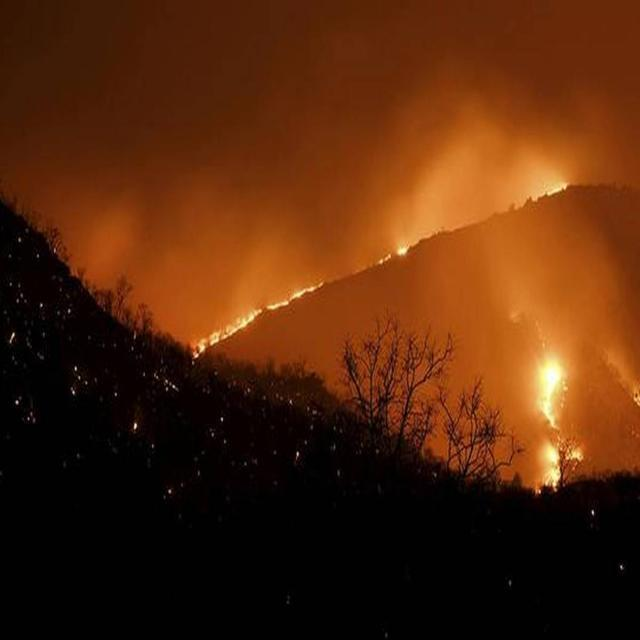Fire: (186, 274, 329, 358), (527, 348, 581, 486), (518, 173, 580, 209), (368, 238, 431, 266)
Smoke: (54, 166, 371, 324), (444, 252, 636, 440), (377, 96, 524, 230)
